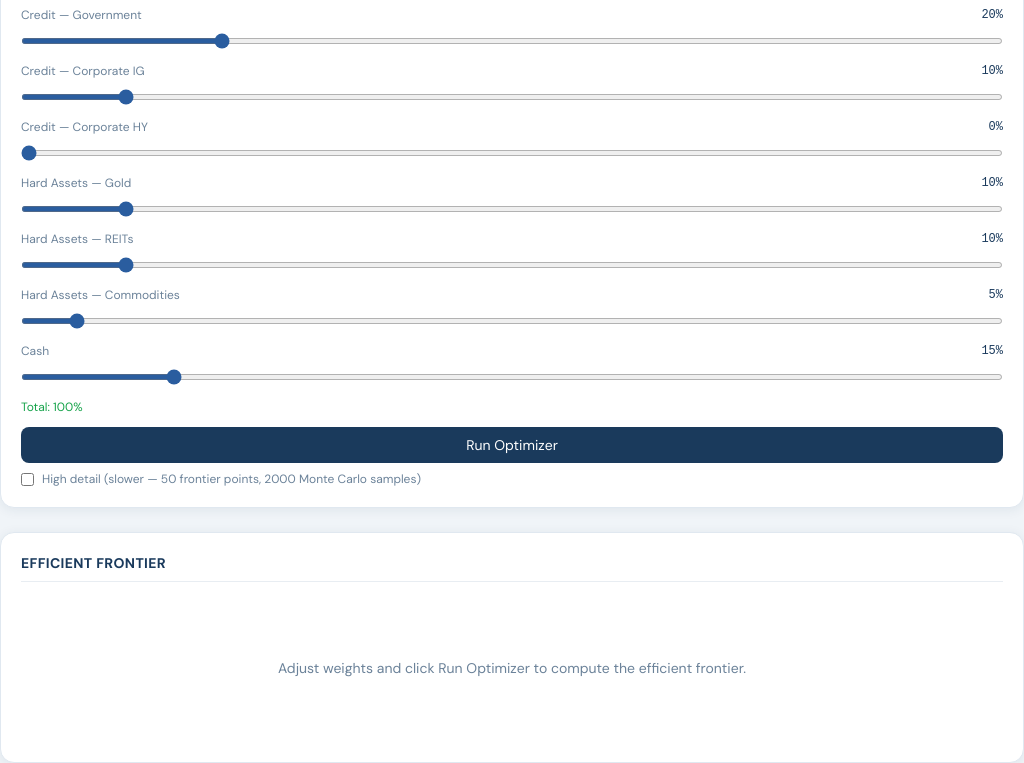
Scenario: PortfolioPage › shows optimized vs current comparison when Max Sharpe card is clicked
(page scrolled)
Expected: the heading "Efficient Frontier" is shown, left=21, top=553, right=1003, bottom=582
Click the button "Run Optimizer": point(512, 445) left=21, top=427, right=1003, bottom=463
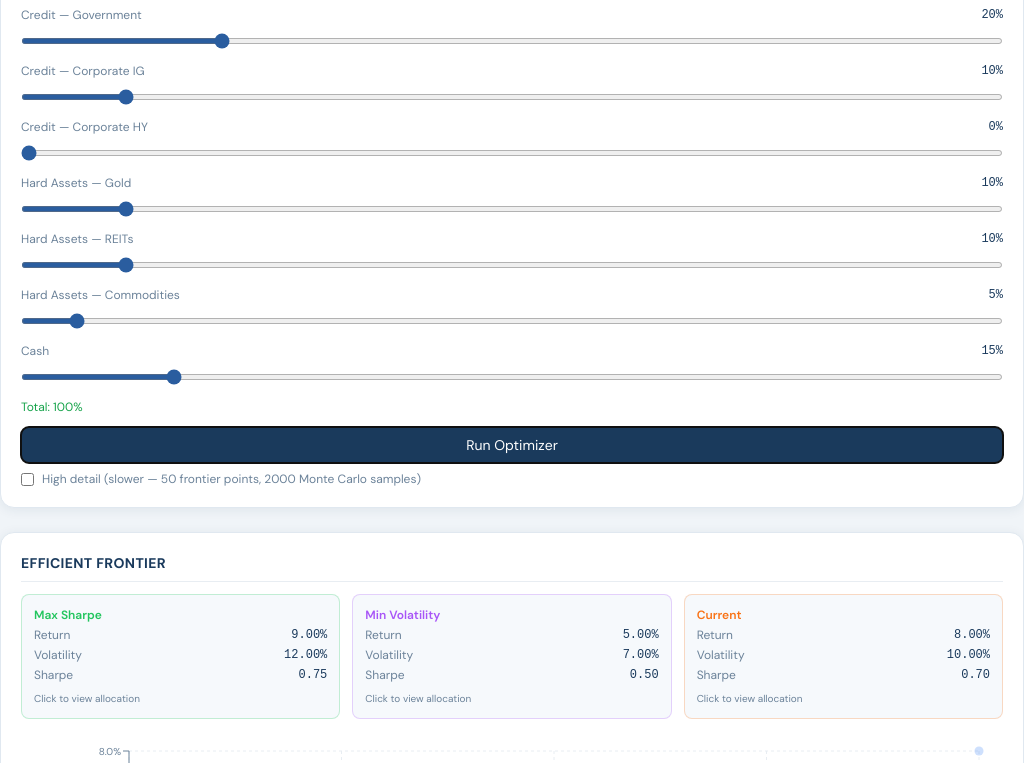
Click the button "Max Sharpe": point(68, 615) left=21, top=594, right=340, bottom=719
(page scrolled)
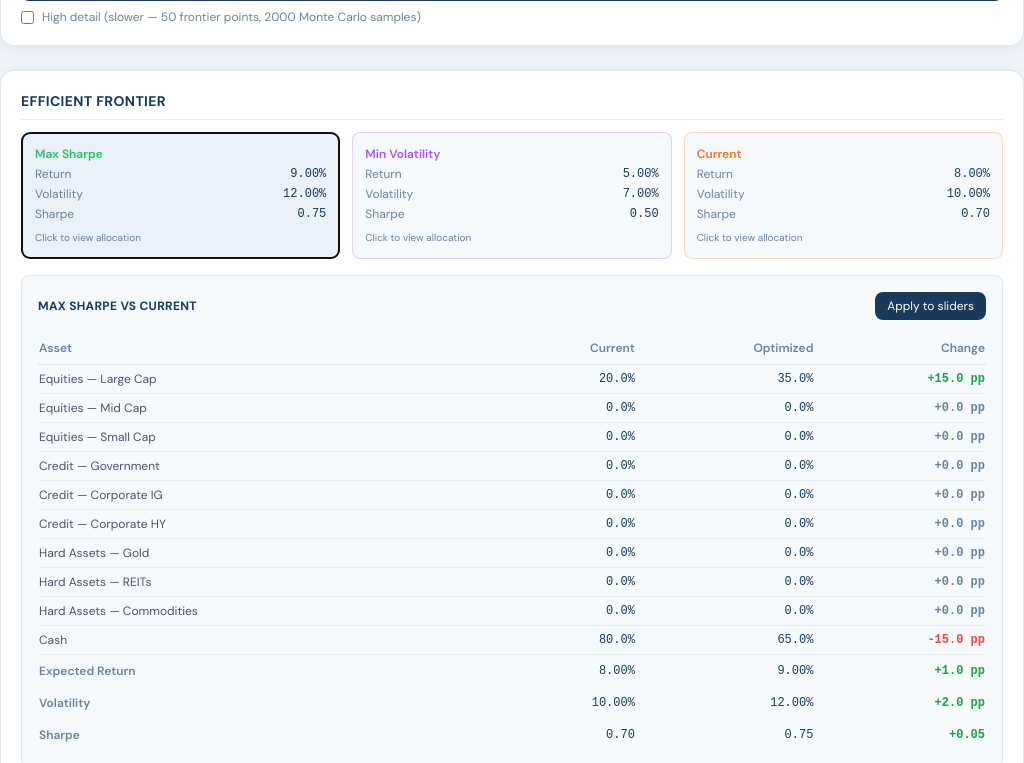
Now the heading "Max Sharpe vs Current" is shown, box left=38, top=298, right=197, bottom=314
Now the column heading "Current" is shown, box left=501, top=332, right=636, bottom=364
Now the column heading "Optimized" is shown, box left=636, top=332, right=814, bottom=364
